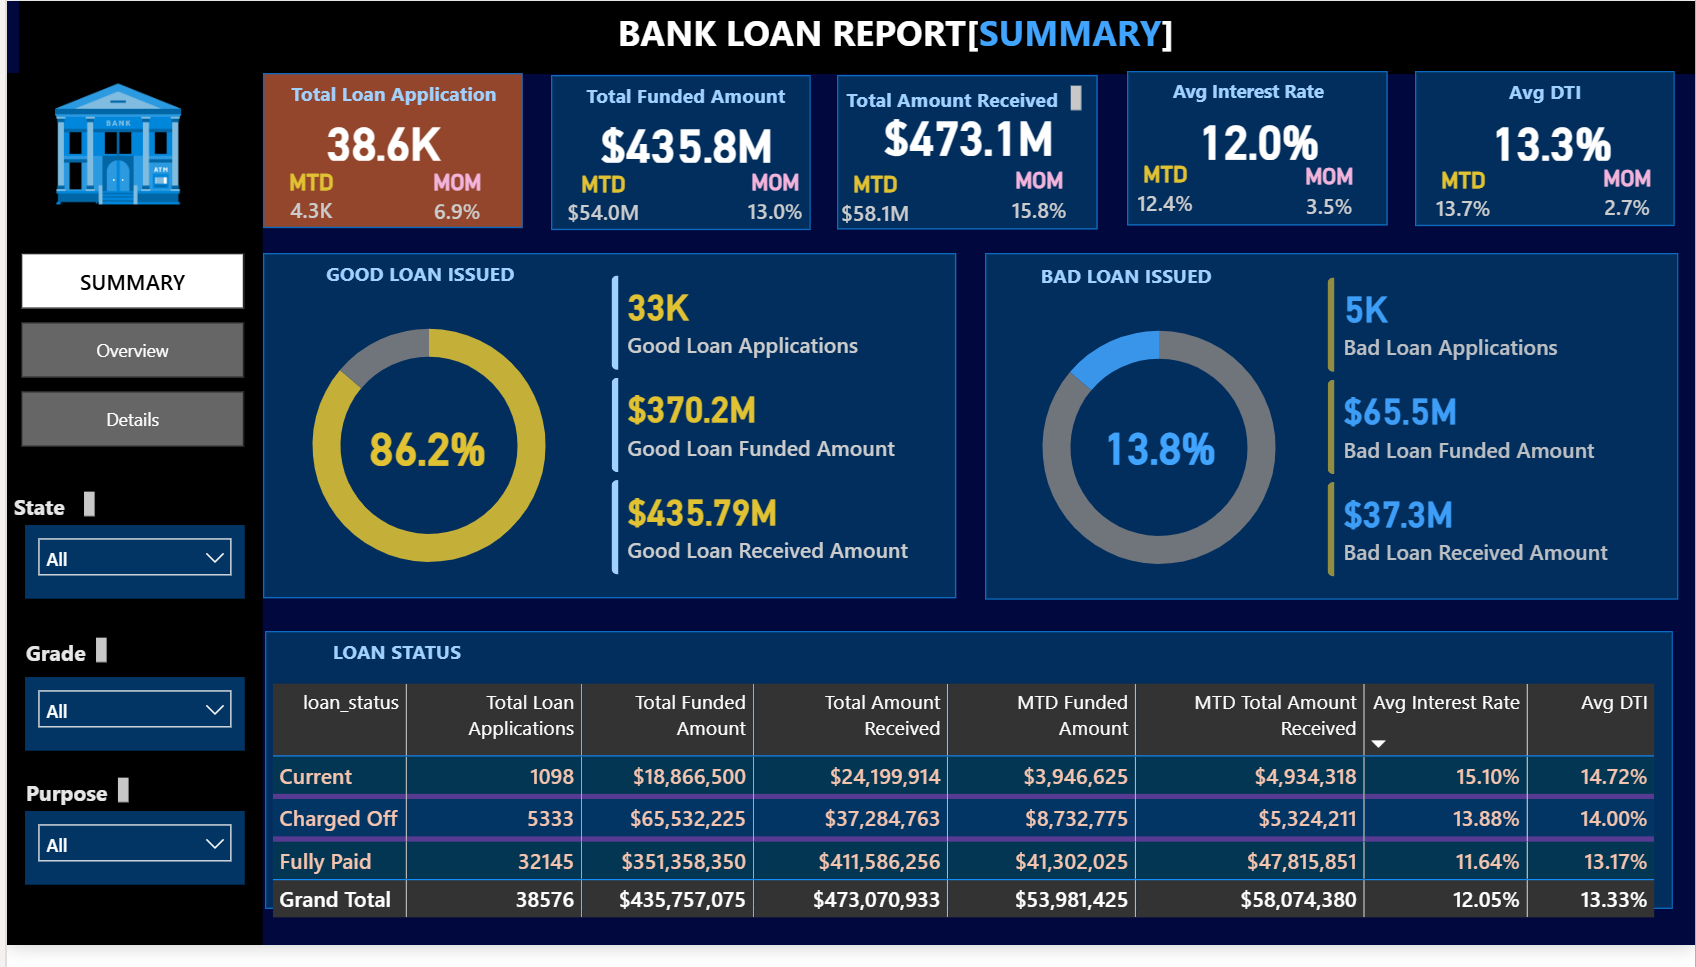

What the dashboard file says about the page in this screenshot:
{"tool":"powerbi","page":{"name":"SUMMARY","canvas":[1271,711],"ordinal":0},"visuals":[{"type":"shape","box":[9.5,0,1270.5,55],"z":0},{"type":"shape","box":[0,54.6,192.6,746.2],"z":1000},{"type":"shape","box":[192.6,54.6,195.6,116.8],"z":2000},{"type":"textbox","box":[455,0,447.4,50],"z":3000},{"type":"card","fields":{"Values":["bank_loan_data.Total Loan Applications"]},"box":[227.5,84.9,112.2,40.9],"z":4000},{"type":"textbox","box":[192.6,54.6,197.2,30.3],"z":5000},{"type":"card","title":"MTD","fields":{"Values":["bank_loan_data.MTD Loan Applications"]},"box":[192.6,125.9,72.8,45.5],"z":6000},{"type":"card","title":"MOM","fields":{"Values":["bank_loan_data.MOM Loan Applications"]},"box":[303.3,125.9,72.8,44],"z":7000},{"type":"shape","box":[409.1,56.1,195.6,116.8],"z":8000},{"type":"card","fields":{"Values":["bank_loan_data.Total Funded Amount"]},"box":[441.3,86.4,141,40.9],"z":9000},{"type":"textbox","box":[412.5,56.1,197.2,30.3],"z":10000},{"type":"card","title":"MTD","fields":{"Values":["bank_loan_data.MTD Funded Applications Amount"]},"box":[412.5,127.4,72.8,45.5],"z":11000},{"type":"card","title":"MOM","fields":{"Values":["bank_loan_data.MOM Total Funded Amount"]},"box":[541.4,125.9,72.8,44],"z":12000},{"type":"shape","box":[625.6,55.3,196.3,116.3],"z":13000},{"type":"textbox","box":[618,58.2,196.3,29.1],"z":14000},{"type":"card","title":"MTD","fields":{"Values":["bank_loan_data.MTD Total Amount Received"]},"box":[618,128,72.7,45.1],"z":15000},{"type":"card","title":"MOM","fields":{"Values":["bank_loan_data.MOM Total Amount Recevied"]},"box":[741.6,125,72.7,43.6],"z":16000},{"type":"shape","box":[842.7,52.3,196.3,116.3],"z":17000},{"type":"card","fields":{"Values":["bank_loan_data.Avg Interest Rate"]},"box":[872.4,82.9,141,42.2],"z":18000},{"type":"textbox","title":"Avg Interest Rate","box":[836.1,52.3,197.7,29.1],"z":19000},{"type":"card","title":"MTD","fields":{"Values":["bank_loan_data.MTD Avg Interest Rate"]},"box":[836.1,120.7,72.7,45.1],"z":20000},{"type":"card","title":"MOM","fields":{"Values":["bank_loan_data.MOM Avg Interest Rate"]},"box":[959.7,122.1,72.7,43.6],"z":21000},{"type":"card","fields":{"Values":["bank_loan_data.Total Amount Received"]},"box":[654.3,80,141,42.2],"z":22000},{"type":"shape","box":[1059.9,52.4,195.6,116.8],"z":23000},{"type":"card","fields":{"Values":["bank_loan_data.Avg DTI"]},"box":[1107.5,83.9,112.3,41.1],"z":24000},{"type":"textbox","box":[1060.1,52.2,196.2,30.1],"z":25000},{"type":"card","title":"MTD","fields":{"Values":["bank_loan_data.MTD Avg DTI"]},"box":[1060.1,125,72.8,45.9],"z":26000},{"type":"card","title":"MOM","fields":{"Values":["bank_loan_data.MOM Avg DTI"]},"box":[1183.5,123.4,72.8,44.3],"z":27000},{"type":"shape","box":[193,189.9,522,260],"z":28000},{"type":"shape","box":[735.7,189.9,522.1,261.1],"z":29000},{"type":"shape","box":[194.3,474.4,1060.2,209.3],"z":30000},{"type":"donutChart","fields":{"Category":["bank_loan_data.Good V Bad Loan"],"Y":["bank_loan_data.Total Loan Applications"]},"box":[193,219.9,250,229.4],"z":31000},{"type":"card","fields":{"Values":["bank_loan_data.Good Loan %"]},"box":[261.1,311.7,112.3,45.9],"z":32000},{"type":"textbox","box":[212,189.9,197.8,30.1],"z":33000},{"type":"cardVisual","fields":{"Data":["bank_loan_data.Good Loan Applications","bank_loan_data.Good Loan Funded Amount","bank_loan_data.Good Loan Received Amount"]},"box":[438.3,189.9,278.5,259.5],"z":34000},{"type":"donutChart","fields":{"Category":["bank_loan_data.Good V Bad Loan"],"Y":["bank_loan_data.Total Loan Applications"]},"box":[742.1,221.5,250,229.4],"z":35000},{"type":"textbox","box":[743.6,191.4,197.8,30.1],"z":36000},{"type":"card","fields":{"Values":["bank_loan_data.Bad Loan %"]},"box":[811.7,311.7,112.3,45.9],"z":37000},{"type":"cardVisual","fields":{"Data":["bank_loan_data.Bad Loan Applications","bank_loan_data.Bad Loan Funded Amount","bank_loan_data.Bad Loan Received Amount"]},"box":[977.8,191.4,278.5,259.5],"z":38000},{"type":"tableEx","fields":{"Values":["bank_loan_data.loan_status","bank_loan_data.Total Loan Applications","bank_loan_data.Total Funded Amount","bank_loan_data.Total Amount Received","bank_loan_data.MTD Funded Applications Amount","bank_loan_data.MTD Total Amount Received","bank_loan_data.Avg Interest Rate","bank_loan_data.Avg DTI"]},"box":[194.3,509,1063.2,201.8],"z":39000},{"type":"textbox","box":[194.3,474.4,198.8,30.1],"z":40000},{"type":"slicer","fields":{"Values":["bank_loan_data.address_state"]},"box":[13.6,394.6,165.7,55.7],"z":41000},{"type":"textbox","box":[0,364.4,70.8,30.1],"z":42000},{"type":"slicer","fields":{"Values":["bank_loan_data.grade"]},"box":[13.6,509,165.7,55.7],"z":43000},{"type":"textbox","box":[9,474.4,70.8,30.1],"z":44000},{"type":"slicer","fields":{"Values":["bank_loan_data.purpose"]},"box":[13.6,609.9,165.7,55.7],"z":45000},{"type":"textbox","box":[9,579.8,87.3,30.1],"z":46000},{"type":"image","box":[36.1,46.7,94.9,122],"z":47000},{"type":"pageNavigator","box":[10.5,189.7,168.7,146.1],"z":48000}]}

Visuals, with their boxes in screenshot pixels (x1, y1, x2, y2), scaled from the page's 1271x711 canvas onto the 1696x967 screenshot:
shape: pyautogui.locateOnScreen(13, 0, 1695, 75)
shape: pyautogui.locateOnScreen(0, 74, 257, 966)
shape: pyautogui.locateOnScreen(257, 74, 518, 233)
textbox: pyautogui.locateOnScreen(607, 0, 1204, 68)
card - bank_loan_data.Total Loan Applications: pyautogui.locateOnScreen(304, 115, 453, 171)
textbox: pyautogui.locateOnScreen(257, 74, 520, 115)
"MTD" card: pyautogui.locateOnScreen(257, 171, 354, 233)
"MOM" card: pyautogui.locateOnScreen(405, 171, 502, 231)
shape: pyautogui.locateOnScreen(546, 76, 807, 235)
card - bank_loan_data.Total Funded Amount: pyautogui.locateOnScreen(589, 118, 777, 173)
textbox: pyautogui.locateOnScreen(550, 76, 814, 118)
"MTD" card: pyautogui.locateOnScreen(550, 173, 648, 235)
"MOM" card: pyautogui.locateOnScreen(722, 171, 820, 231)
shape: pyautogui.locateOnScreen(835, 75, 1097, 233)
textbox: pyautogui.locateOnScreen(825, 79, 1087, 119)
"MTD" card: pyautogui.locateOnScreen(825, 174, 922, 235)
"MOM" card: pyautogui.locateOnScreen(990, 170, 1087, 229)
shape: pyautogui.locateOnScreen(1124, 71, 1386, 229)
card - bank_loan_data.Avg Interest Rate: pyautogui.locateOnScreen(1164, 113, 1352, 170)
"Avg Interest Rate" textbox: pyautogui.locateOnScreen(1116, 71, 1379, 111)
"MTD" card: pyautogui.locateOnScreen(1116, 164, 1213, 225)
"MOM" card: pyautogui.locateOnScreen(1281, 166, 1378, 225)
card - bank_loan_data.Total Amount Received: pyautogui.locateOnScreen(873, 109, 1061, 166)
shape: pyautogui.locateOnScreen(1414, 71, 1675, 230)
card - bank_loan_data.Avg DTI: pyautogui.locateOnScreen(1478, 114, 1628, 170)
textbox: pyautogui.locateOnScreen(1415, 71, 1676, 112)
"MTD" card: pyautogui.locateOnScreen(1415, 170, 1512, 232)
"MOM" card: pyautogui.locateOnScreen(1579, 168, 1676, 228)
shape: pyautogui.locateOnScreen(258, 258, 954, 612)
shape: pyautogui.locateOnScreen(982, 258, 1678, 613)
shape: pyautogui.locateOnScreen(259, 645, 1674, 930)
donutChart - bank_loan_data.Good V Bad Loan x bank_loan_data.Total Loan Applications: pyautogui.locateOnScreen(258, 299, 591, 611)
card - bank_loan_data.Good Loan %: pyautogui.locateOnScreen(348, 424, 498, 486)
textbox: pyautogui.locateOnScreen(283, 258, 547, 299)
cardVisual - bank_loan_data.Good Loan Applications x bank_loan_data.Good Loan Funded Amount: pyautogui.locateOnScreen(585, 258, 956, 611)
donutChart - bank_loan_data.Good V Bad Loan x bank_loan_data.Total Loan Applications: pyautogui.locateOnScreen(990, 301, 1324, 613)
textbox: pyautogui.locateOnScreen(992, 260, 1256, 301)
card - bank_loan_data.Bad Loan %: pyautogui.locateOnScreen(1083, 424, 1233, 486)
cardVisual - bank_loan_data.Bad Loan Applications x bank_loan_data.Bad Loan Funded Amount: pyautogui.locateOnScreen(1305, 260, 1676, 613)
tableEx - bank_loan_data.loan_status x bank_loan_data.Total Loan Applications: pyautogui.locateOnScreen(259, 692, 1678, 966)
textbox: pyautogui.locateOnScreen(259, 645, 525, 686)
slicer - bank_loan_data.address_state: pyautogui.locateOnScreen(18, 537, 239, 612)
textbox: pyautogui.locateOnScreen(0, 496, 94, 537)
slicer - bank_loan_data.grade: pyautogui.locateOnScreen(18, 692, 239, 768)
textbox: pyautogui.locateOnScreen(12, 645, 106, 686)
slicer - bank_loan_data.purpose: pyautogui.locateOnScreen(18, 829, 239, 905)
textbox: pyautogui.locateOnScreen(12, 789, 129, 829)
image: pyautogui.locateOnScreen(48, 64, 175, 229)
pageNavigator: pyautogui.locateOnScreen(14, 258, 239, 457)
